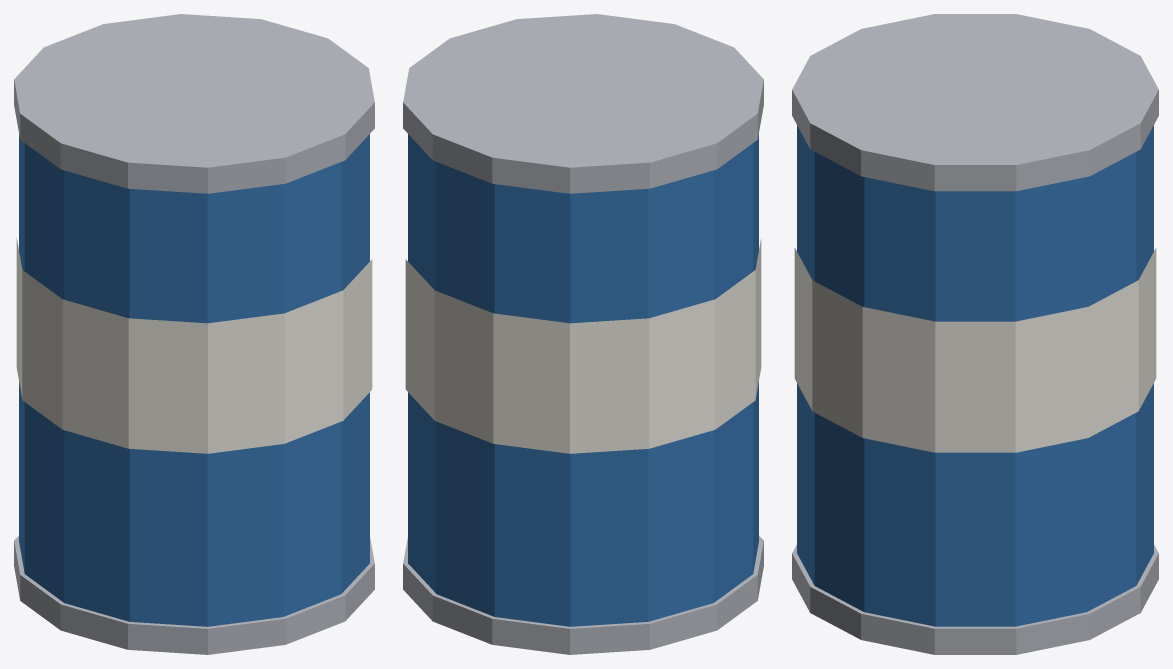
File: g-beans.glb
The picture shows the model from 3 angles, left to right: view 1: azimuth 30°, elevation 25°; view 2: azimuth 150°, elevation 25°; view 3: azimuth 270°, elevation 25°; orthographic projection.
Parts seen in each view (by area): view 1: g_beans; view 2: g_beans; view 3: g_beans.
Part boxes in pixels (x1,y1,x2,y2): g_beans: (14,14,374,654); g_beans: (403,14,763,654); g_beans: (792,14,1158,654).
Bounding box in the file's own units: 0.0741 × 0.112 × 0.076.
